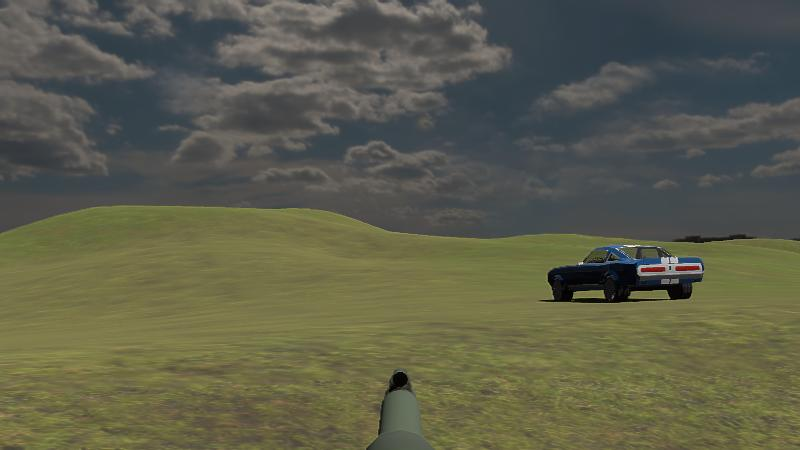car: (544, 240, 707, 305)
